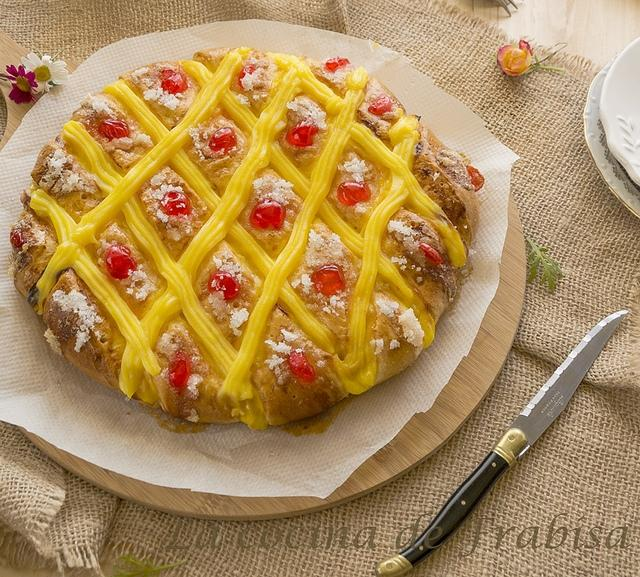cherry: (311, 264, 345, 298), (249, 199, 285, 230), (105, 244, 137, 278), (208, 270, 242, 300), (168, 351, 190, 397), (288, 351, 316, 383), (158, 190, 193, 215), (338, 181, 372, 206), (419, 241, 446, 270), (286, 124, 318, 148), (209, 128, 238, 154), (158, 69, 188, 94), (98, 120, 129, 142), (466, 165, 484, 192), (368, 95, 392, 115), (326, 58, 350, 74)
